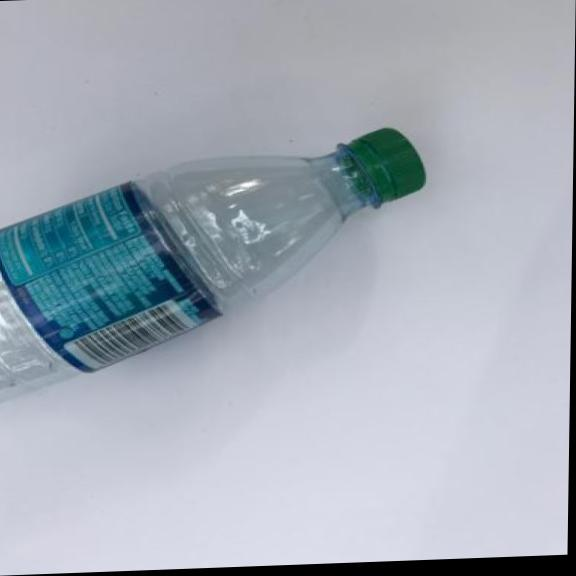Plastik: (0, 117, 434, 405)
